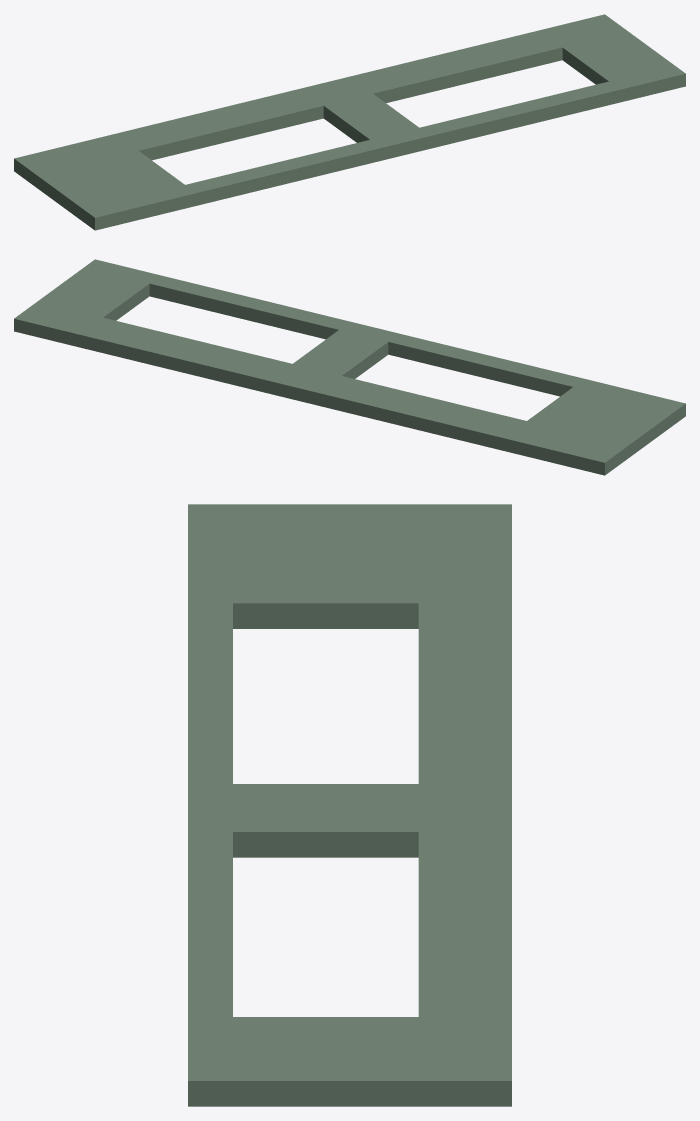
The model's file is wall_west.obj.
3 views of the same model, one above another, from view 1: azimuth 30°, elevation 25°; view 2: azimuth 150°, elevation 25°; view 3: azimuth 270°, elevation 25° (orthographic). The views are drawn at different scales.
Parts seen in each view (by area): view 1: Wall_West; view 2: Wall_West; view 3: Wall_West.
Boxes of the visible parts, x1,y1,x2,y2 form: Wall_West: (14,14,685,230); Wall_West: (14,259,685,475); Wall_West: (188,504,511,1106).
Bounding box in the file's own units: 14.87 × 0.3075 × 3.53.
